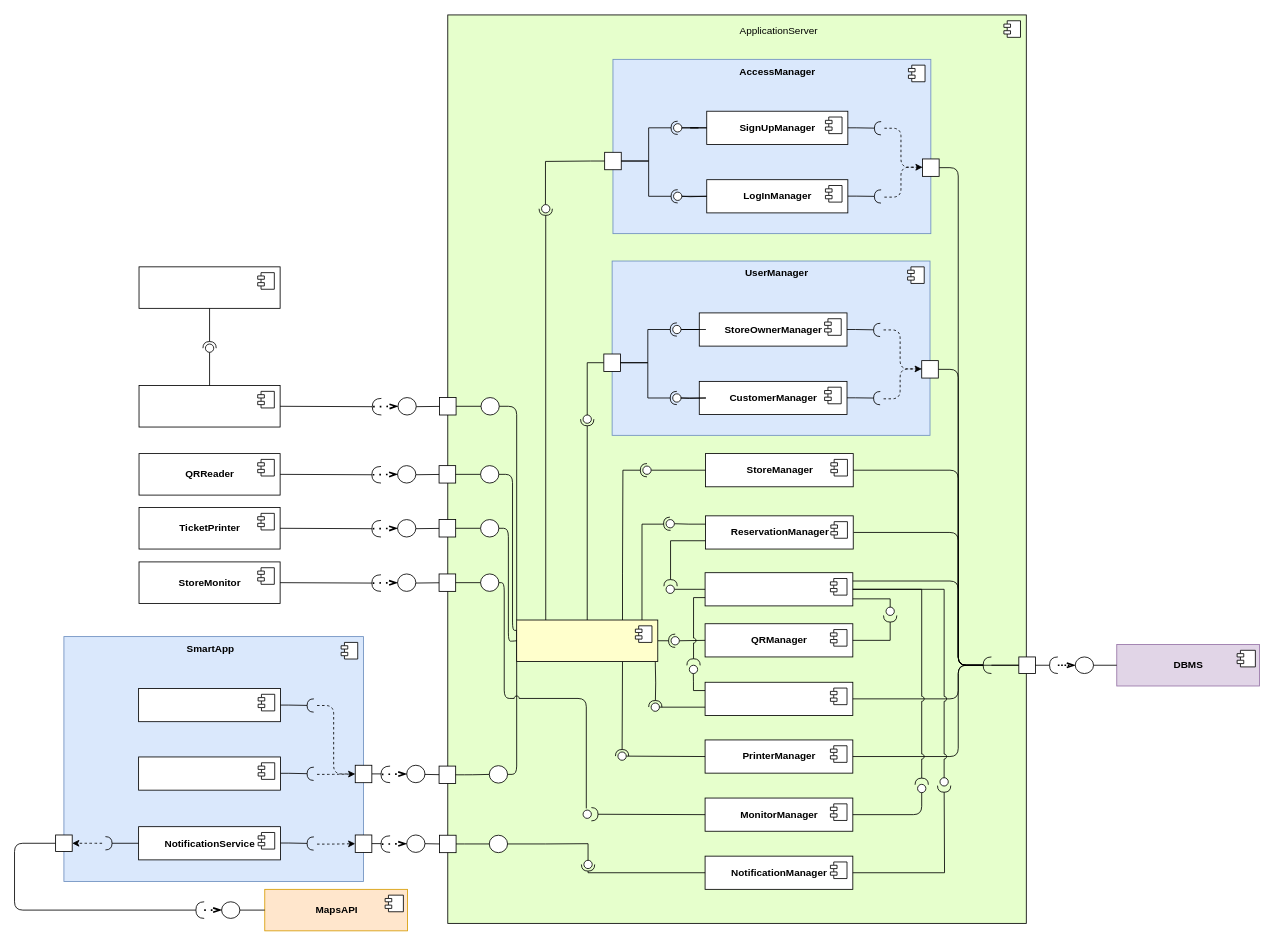
This 1274x945 diagram has some shape labels left out. Here are the shapes that lost their labels. From the top down, the centre of each, then its label:
(209,287): WebApp
(209,406): WebServer
(778,589): QueueManager
(587,640): Redirector
(209,705): StoreOwnerService
(778,698): StatisticsManager
(209,773): CustomerService
